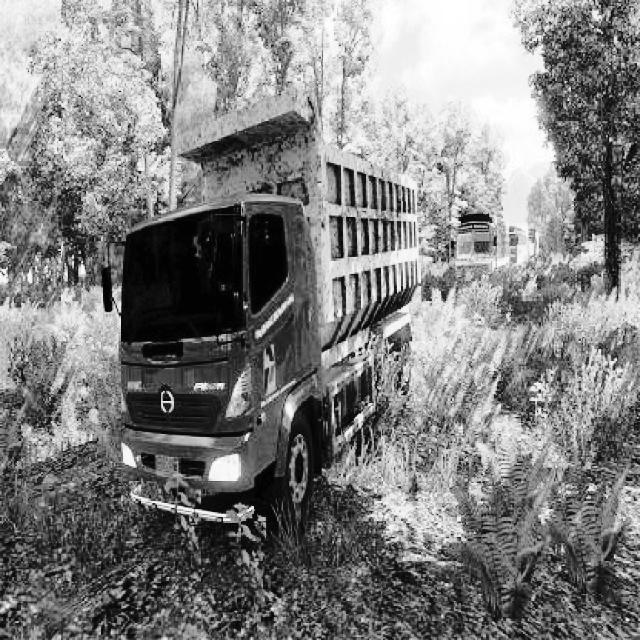HCV: (115, 142, 428, 520), (452, 226, 535, 287)
